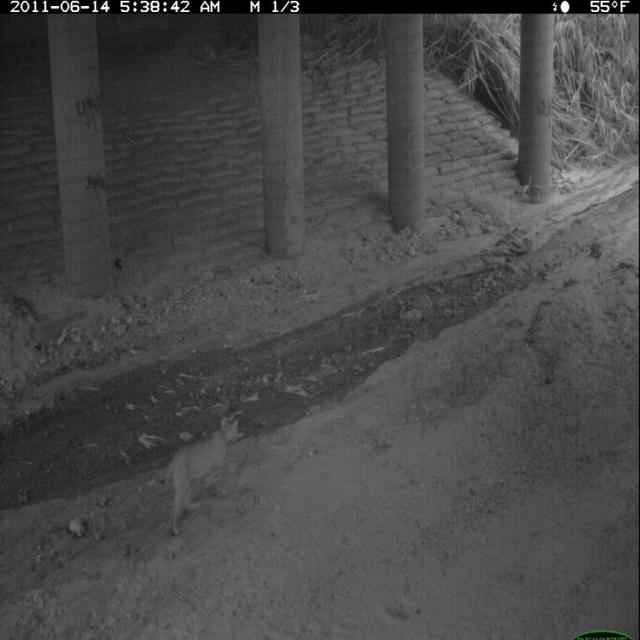bobcat: (158, 413, 242, 540)
